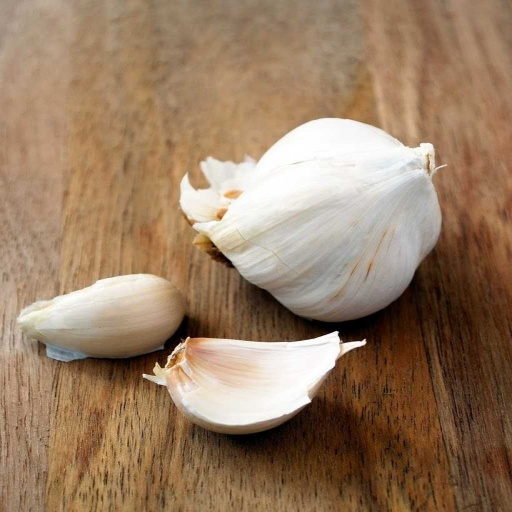Knoblauch: (179, 117, 442, 322)
